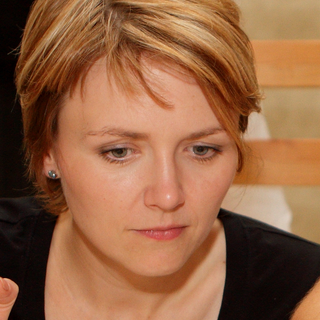eye: (96, 142, 143, 163), (180, 142, 227, 163)
